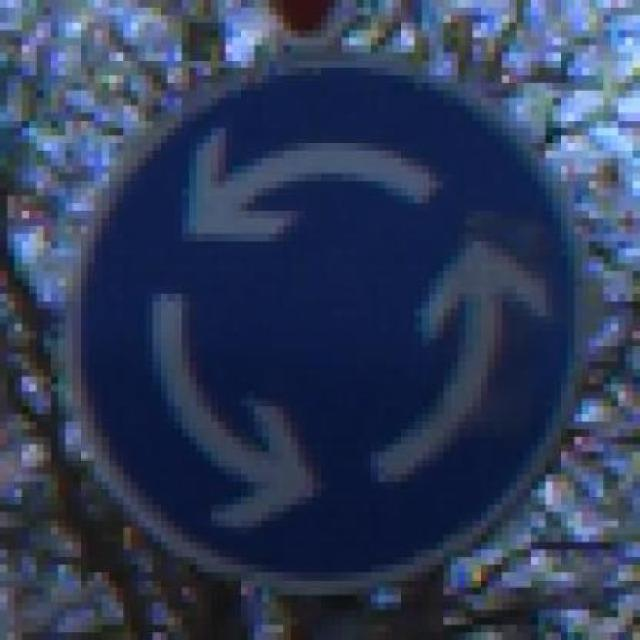Round-About: (43, 52, 619, 603)
